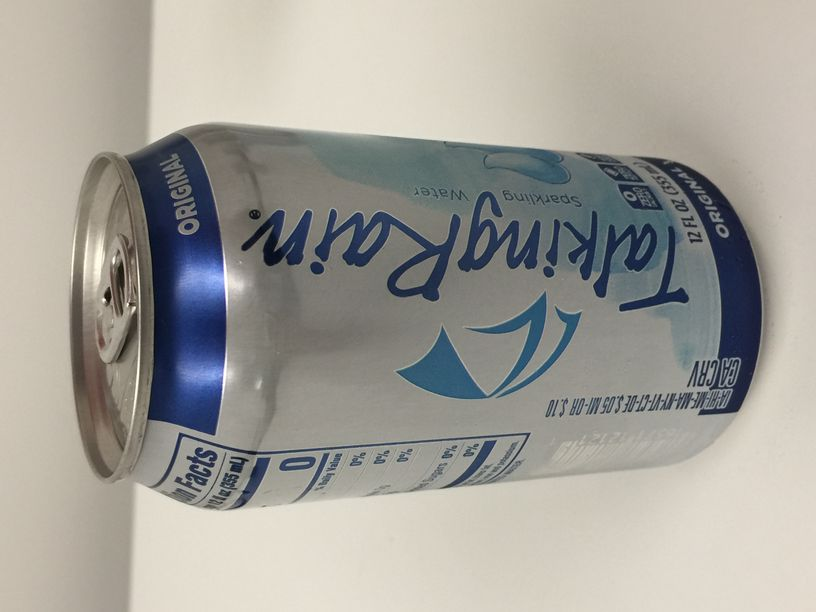competitor_02: (70, 120, 765, 510)
